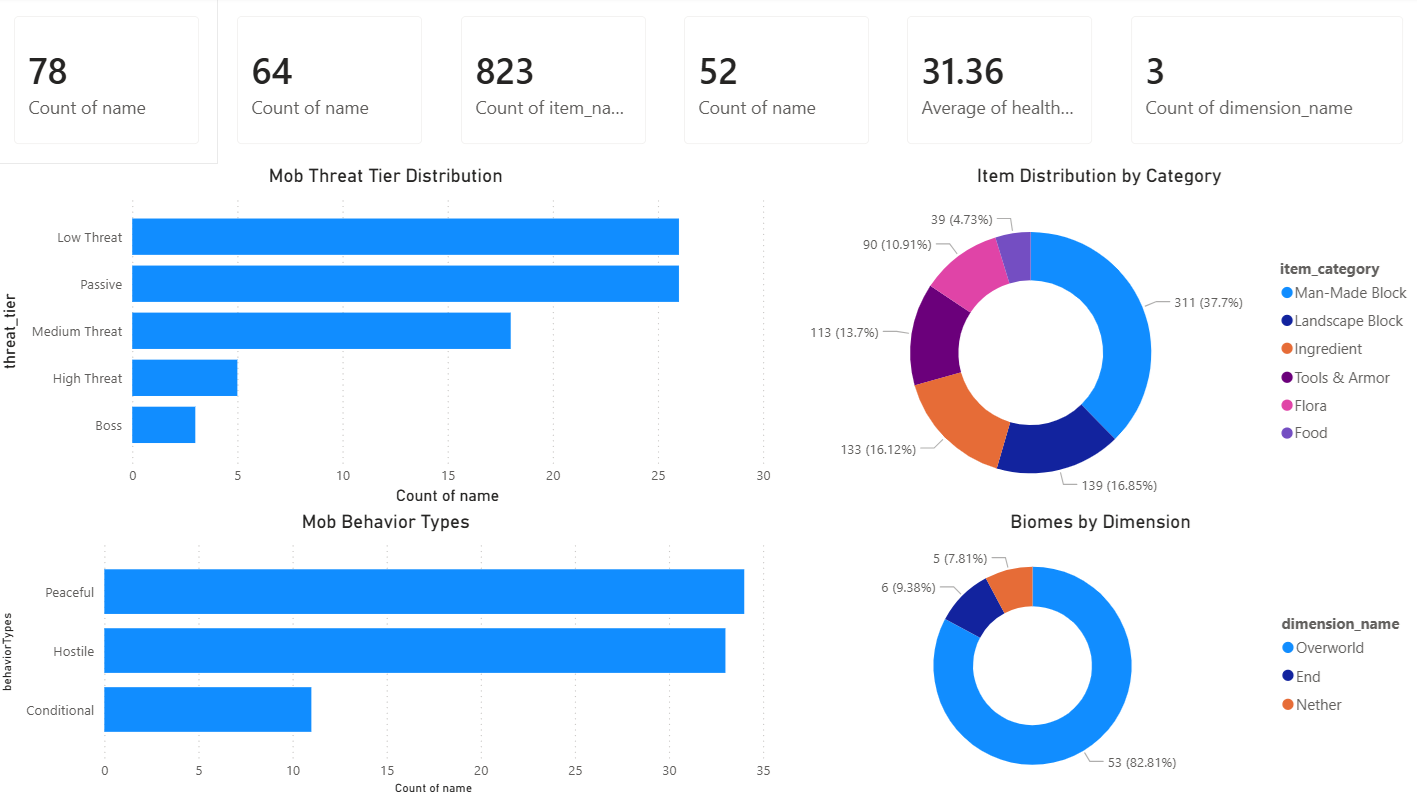

Layout of this report page (visuals, bound fields, positions):
{"tool":"powerbi","page":{"name":"Overview","canvas":[1280,720],"ordinal":0},"visuals":[{"type":"cardVisual","fields":{"Data":["Avg(mobs_enriched.healthPoints)"]},"box":[800.8,0,200.2,149.3],"z":0},{"type":"cardVisual","fields":{"Data":["Count(mobs_enriched.name)"]},"box":[0,0,200.2,149.3],"z":1000},{"type":"cardVisual","fields":{"Data":["Count(biomes_enriched.name)"]},"box":[200.2,0,200.2,149.3],"z":2000},{"type":"cardVisual","fields":{"Data":["Count(all_items_combined.item_name)"]},"box":[400.4,0,200.2,149.3],"z":3000},{"type":"cardVisual","fields":{"Data":["Count(mobs_enriched.name)"]},"box":[600.6,0,200.2,149.3],"z":4000},{"type":"cardVisual","fields":{"Data":["Count(biomes_enriched.dimension_name)"]},"box":[1001,0,279,149.3],"z":5000},{"type":"clusteredBarChart","title":"Mob Threat Tier Distribution","fields":{"Category":["mobs_enriched.threat_tier"],"Y":["Count(mobs_enriched.name)"]},"box":[0,149.8,700.5,310.1],"z":6000},{"type":"donutChart","title":"Item Distribution by Category","fields":{"Category":["all_items_combined.item_category"],"Y":["Count(all_items_combined.item_name)"]},"box":[700.5,149.8,579.5,319.3],"z":7000},{"type":"clusteredBarChart","title":"Mob Behavior Types","fields":{"Category":["mobs_enriched.behaviorTypes"],"Y":["Count(mobs_enriched.name)"]},"box":[0,460,700.5,260.2],"z":8000},{"type":"donutChart","title":"Biomes by Dimension","fields":{"Category":["biomes_enriched.dimension_name"],"Y":["Count(biomes_enriched.name)"]},"box":[701.8,460,578.2,260.2],"z":9000}]}

Visuals, with their boxes in screenshot pixels (x1, y1, x2, y2), scaled from the page's 1280x720 canvas onto the 1417x796 screenshot:
cardVisual - Avg(mobs_enriched.healthPoints): (x1=887, y1=0, x2=1108, y2=165)
cardVisual - Count(mobs_enriched.name): (x1=0, y1=0, x2=222, y2=165)
cardVisual - Count(biomes_enriched.name): (x1=222, y1=0, x2=443, y2=165)
cardVisual - Count(all_items_combined.item_name): (x1=443, y1=0, x2=665, y2=165)
cardVisual - Count(mobs_enriched.name): (x1=665, y1=0, x2=887, y2=165)
cardVisual - Count(biomes_enriched.dimension_name): (x1=1108, y1=0, x2=1416, y2=165)
"Mob Threat Tier Distribution" clusteredBarChart: (x1=0, y1=166, x2=775, y2=508)
"Item Distribution by Category" donutChart: (x1=775, y1=166, x2=1416, y2=519)
"Mob Behavior Types" clusteredBarChart: (x1=0, y1=509, x2=775, y2=795)
"Biomes by Dimension" donutChart: (x1=777, y1=509, x2=1416, y2=795)
